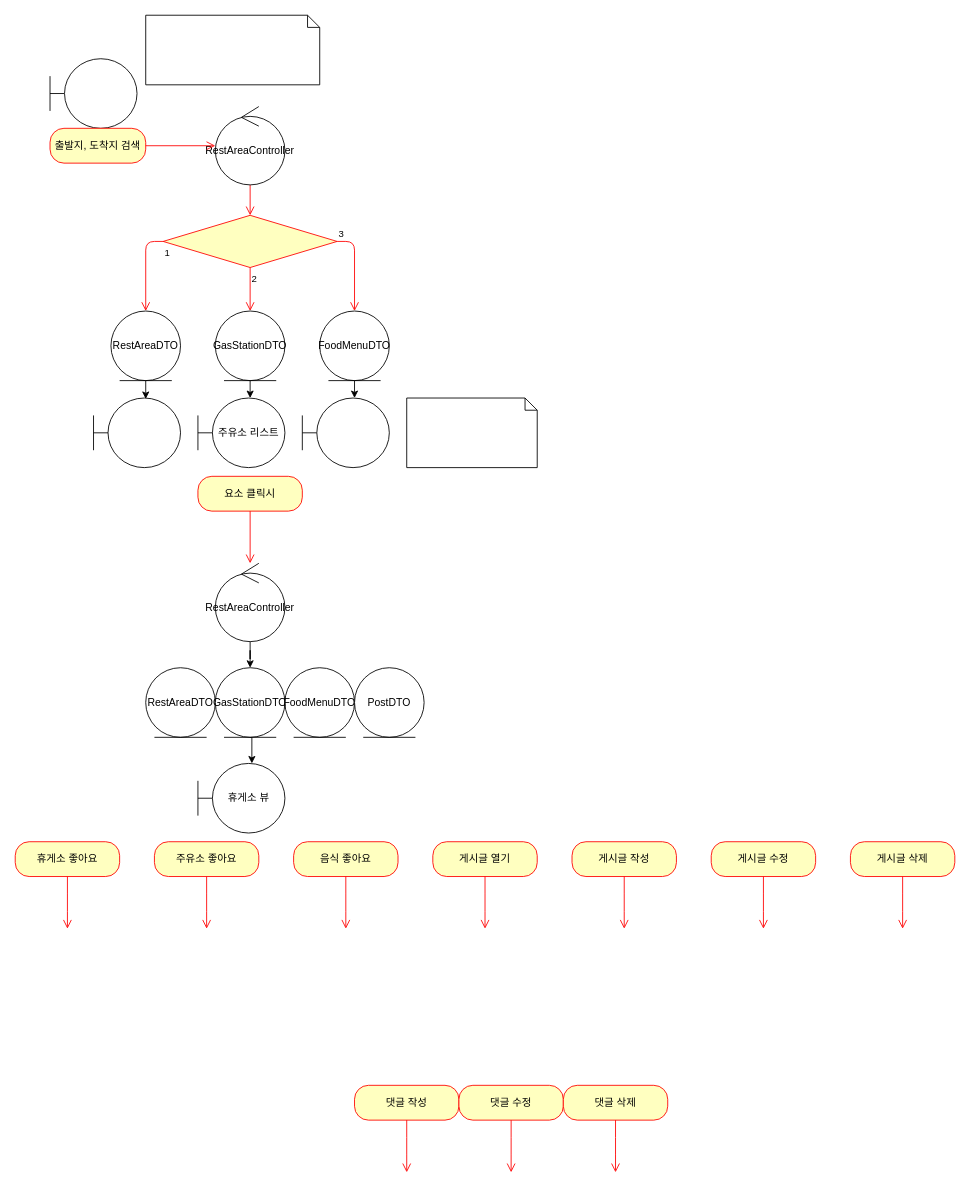
This 970x1196 diagram has some shape labels left out. The shapes that lost their labels are listed below. From the top down, each one's centre as x and y in pixels, then its label:
[232,49]: 출발지 도착지 입력 휴게소, 주유소, 음식메뉴 택 1
[93,93]: 검색 (메인화면)
[249,241]: 검색 1.휴게소 2. 주유소 3. 음식 메뉴
[137,432]: 휴게소 리스트
[345,432]: 음식 메뉴 리스트
[471,432]: 1. 경로 순 정렬 2. 인기 순 정렬 3. 가격 순 정렬
